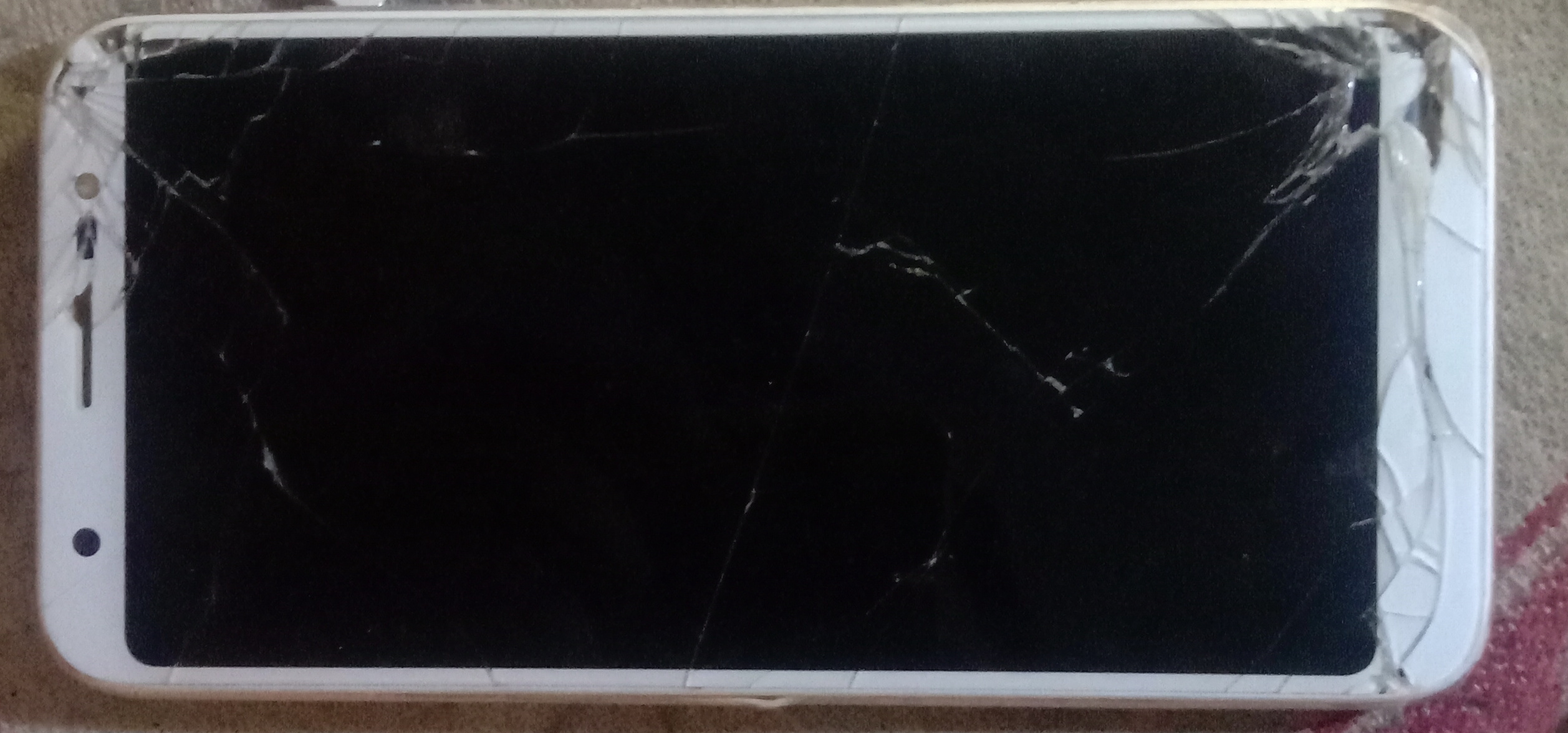Crack: (1223, 14, 1513, 711), (13, 16, 391, 275)
